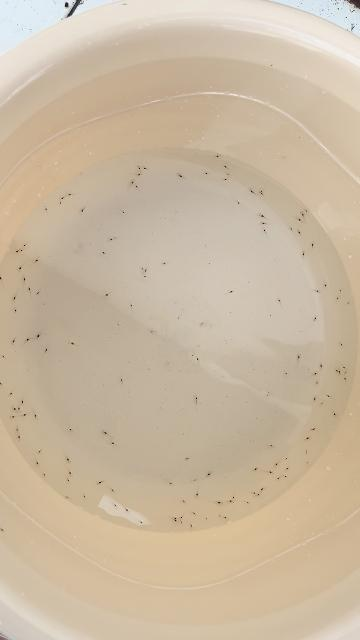benur: (34, 334, 40, 340), (101, 429, 107, 434), (68, 340, 74, 345), (248, 188, 253, 193), (131, 179, 136, 184), (13, 250, 18, 255), (114, 504, 119, 509), (174, 519, 179, 524), (262, 227, 266, 232), (259, 213, 264, 217), (177, 173, 182, 177), (216, 155, 221, 159), (134, 183, 138, 188), (122, 211, 127, 215), (66, 193, 71, 197), (59, 197, 64, 201), (36, 257, 41, 261), (17, 267, 21, 272), (27, 336, 31, 341), (11, 340, 15, 345), (12, 405, 16, 410), (21, 414, 26, 418), (36, 462, 40, 467), (327, 395, 332, 399), (300, 211, 304, 216), (67, 427, 72, 431), (67, 458, 71, 463), (230, 289, 235, 293), (80, 209, 83, 215), (23, 275, 26, 281), (143, 269, 146, 275), (261, 222, 265, 226), (238, 202, 242, 206), (260, 189, 264, 193), (223, 164, 227, 168), (45, 348, 49, 352), (8, 393, 12, 397), (15, 429, 19, 433), (126, 509, 130, 513), (140, 521, 144, 525), (193, 512, 197, 516), (183, 500, 187, 504), (208, 471, 212, 475), (259, 488, 263, 492), (316, 380, 320, 384), (314, 371, 318, 375), (343, 366, 347, 370), (299, 219, 303, 223), (195, 395, 199, 399), (142, 274, 146, 278), (161, 262, 165, 266), (104, 294, 108, 298), (202, 173, 207, 176), (12, 297, 15, 302), (18, 407, 21, 412), (10, 416, 15, 419), (18, 436, 21, 441), (68, 479, 71, 484), (70, 472, 73, 477), (96, 482, 101, 485), (218, 501, 223, 504), (229, 500, 234, 503), (195, 493, 198, 498), (269, 471, 274, 474), (274, 463, 277, 468), (306, 436, 311, 439), (314, 395, 317, 400), (337, 295, 340, 300), (298, 354, 301, 359), (100, 251, 105, 254), (142, 166, 146, 169), (137, 166, 140, 170), (44, 206, 47, 210), (19, 250, 23, 253), (27, 286, 30, 290), (36, 292, 39, 296), (21, 401, 24, 405), (35, 415, 38, 419), (44, 474, 47, 478), (64, 495, 68, 498), (112, 489, 115, 493), (174, 517, 178, 520), (190, 524, 193, 528), (194, 478, 198, 481), (247, 501, 250, 505), (257, 493, 261, 496), (255, 466, 258, 470), (286, 466, 290, 469), (271, 445, 275, 448), (313, 427, 317, 430), (334, 413, 337, 417), (319, 363, 322, 367), (338, 371, 341, 375), (316, 290, 320, 293), (324, 282, 327, 286), (312, 242, 315, 246), (302, 251, 305, 255), (297, 229, 300, 233), (289, 226, 292, 230), (306, 210, 309, 214), (110, 441, 114, 444), (196, 357, 199, 361), (277, 297, 280, 301), (108, 238, 112, 241), (285, 371, 288, 375), (0, 275, 2, 280), (225, 178, 228, 181), (226, 173, 229, 176), (14, 310, 17, 313), (1, 355, 4, 358), (37, 451, 40, 454), (180, 521, 183, 524), (180, 516, 183, 519), (205, 518, 208, 521), (224, 517, 227, 520), (253, 492, 256, 495), (276, 478, 279, 481), (285, 476, 288, 479), (344, 371, 347, 374), (185, 458, 188, 461), (200, 323, 203, 326), (191, 354, 194, 357), (130, 304, 133, 307), (141, 267, 144, 270), (60, 200, 62, 204), (232, 497, 234, 501), (305, 451, 307, 455), (344, 376, 346, 380), (315, 315, 317, 319), (120, 377, 122, 381), (116, 324, 120, 326), (260, 193, 263, 195), (138, 174, 141, 176), (0, 382, 2, 385), (84, 495, 86, 498), (321, 402, 324, 404), (336, 370, 338, 373), (341, 344, 343, 347), (340, 289, 342, 292), (347, 302, 350, 304), (170, 483, 173, 485), (150, 331, 153, 333), (23, 245, 25, 247), (286, 457, 288, 459), (307, 462, 309, 464), (267, 394, 269, 396), (268, 392, 270, 394), (178, 317, 179, 319)
